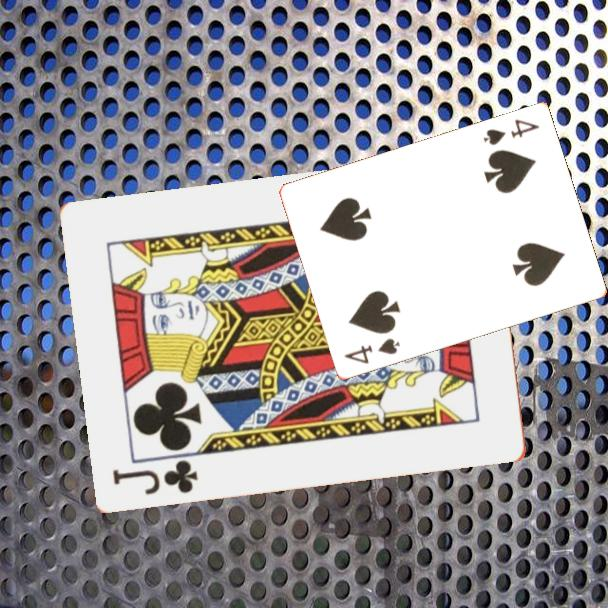c11: (109, 455, 201, 497)
s04: (480, 116, 542, 149), (340, 335, 403, 367)
